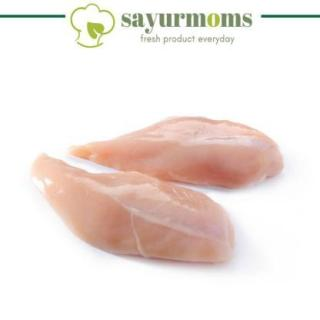Ayam: (31, 155, 234, 266), (72, 119, 284, 185)
